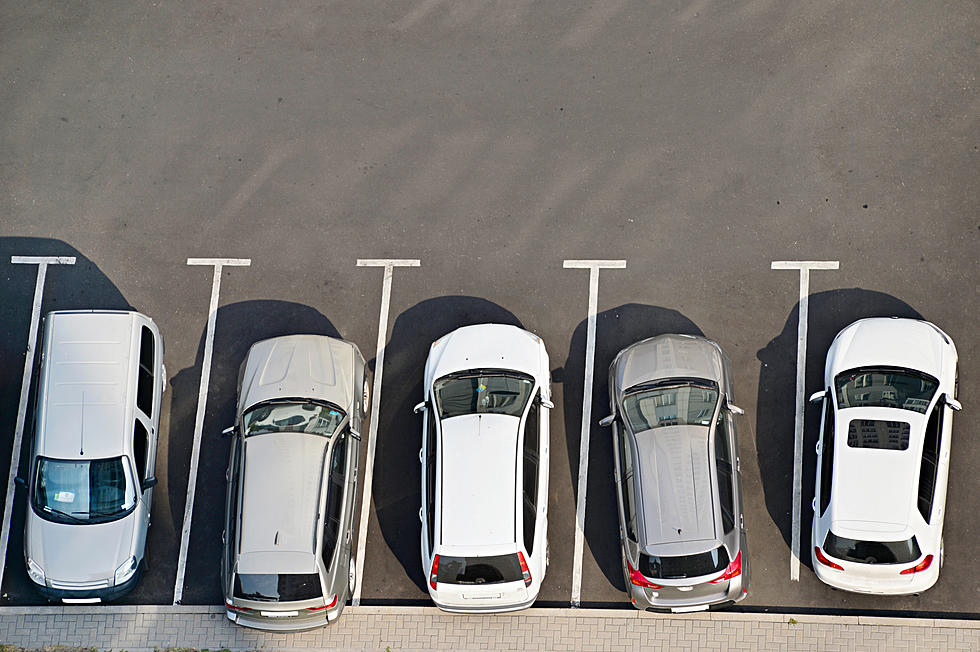car: (590, 331, 760, 622), (13, 298, 169, 608), (808, 307, 965, 608), (219, 335, 376, 635), (409, 320, 558, 616)
